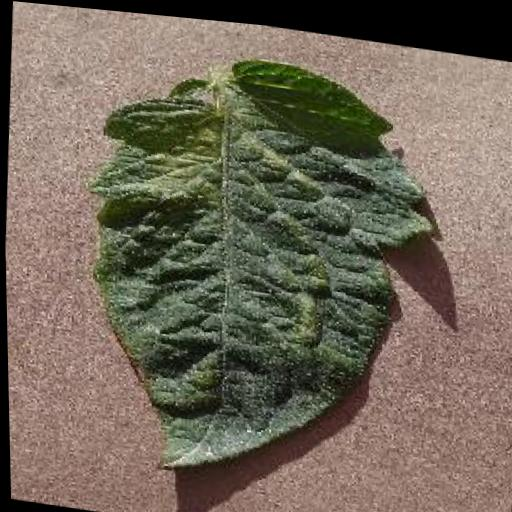Spider Mites: (74, 29, 440, 503)
